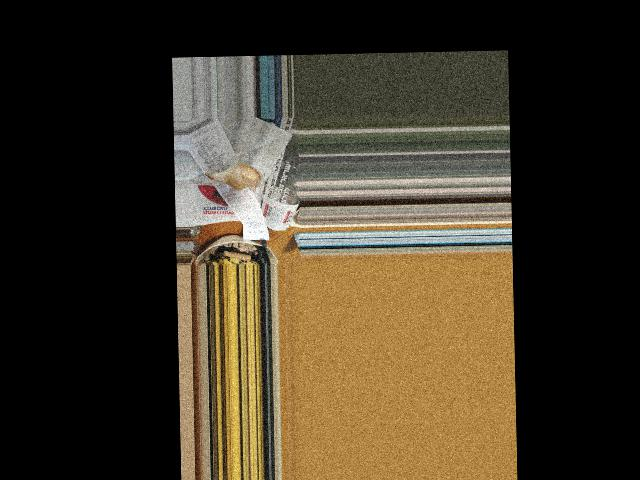onion: (221, 163, 264, 187)
